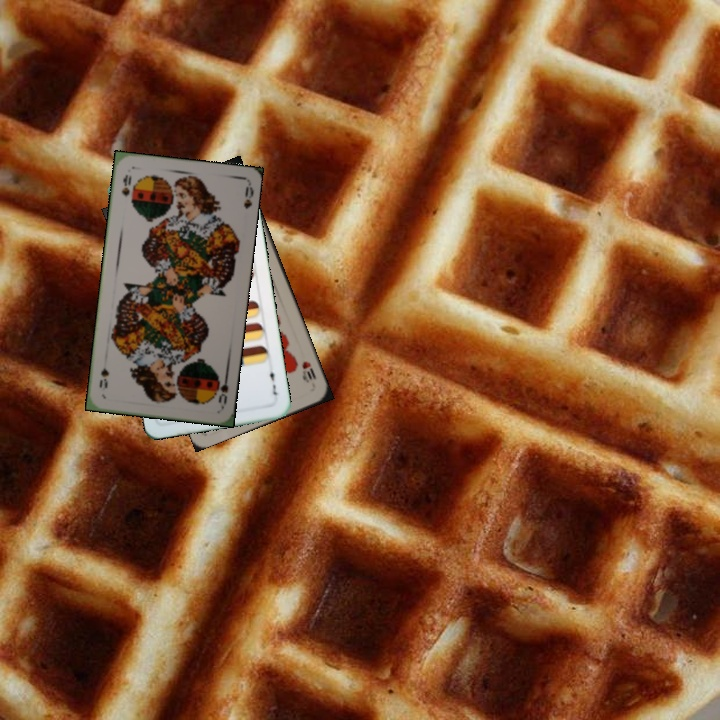E7: (266, 363, 279, 397)
H10: (298, 357, 319, 385)
SO: (212, 369, 231, 409), (117, 171, 134, 200)
